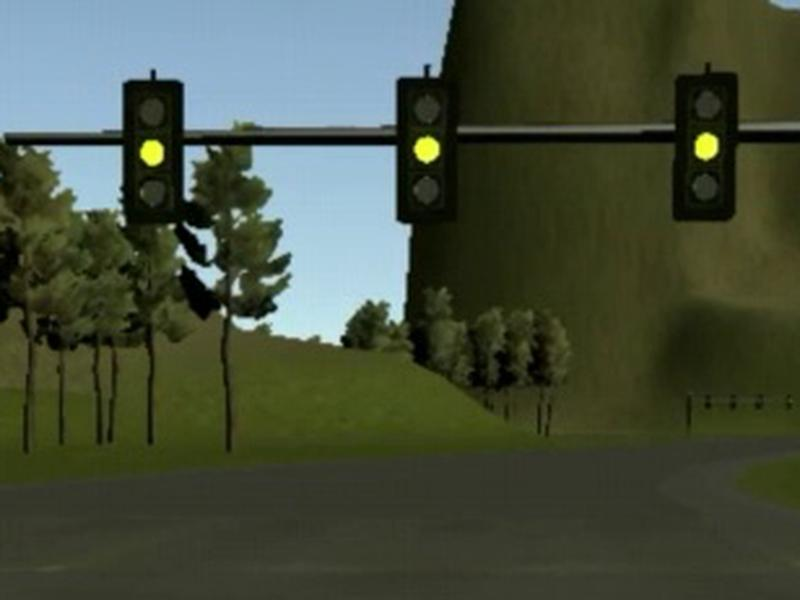Yellow: (671, 71, 739, 223), (395, 77, 459, 224), (122, 79, 184, 223)
